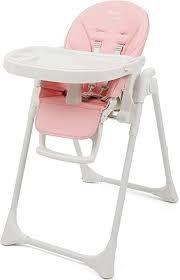obstacle: (1, 0, 178, 279)
